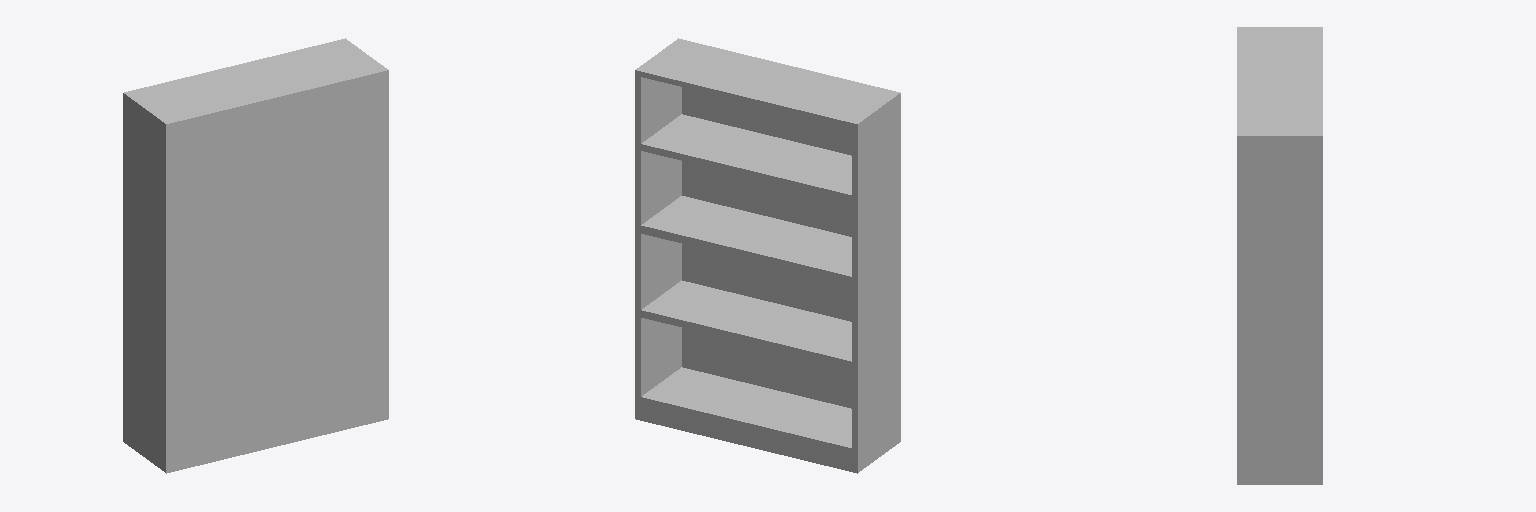
The model's file is Regal (1).obj.
3 views of the same model, side by side, from view 1: azimuth 30°, elevation 25°; view 2: azimuth 150°, elevation 25°; view 3: azimuth 270°, elevation 25° (orthographic).
Parts seen in each view (by area): view 1: Cube_Cube.001; view 2: Cube_Cube.001; view 3: Cube_Cube.001.
Boxes of the visible parts, box(x1,y1,x2,y2) form: Cube_Cube.001: box(123, 38, 388, 473); Cube_Cube.001: box(635, 38, 900, 473); Cube_Cube.001: box(1237, 27, 1322, 484).
Bounding box in the file's own units: 4 × 6 × 1.35.